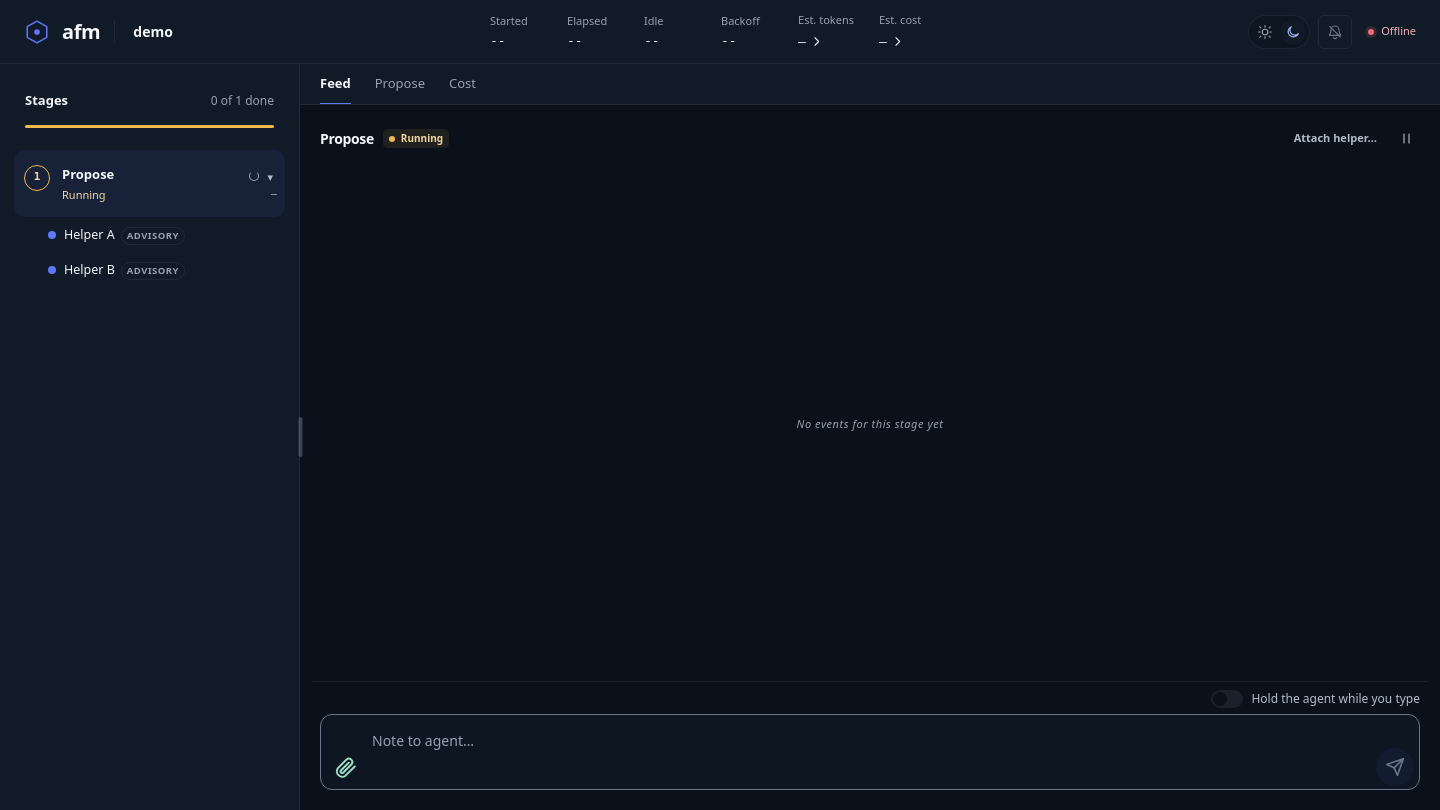
Test case: App helper activity › the selected helper view follows the socket state of the app
The image size is (1440, 810).
Click the button "Helper A Advisory" at coordinates (164, 235), box [42, 218, 285, 252]
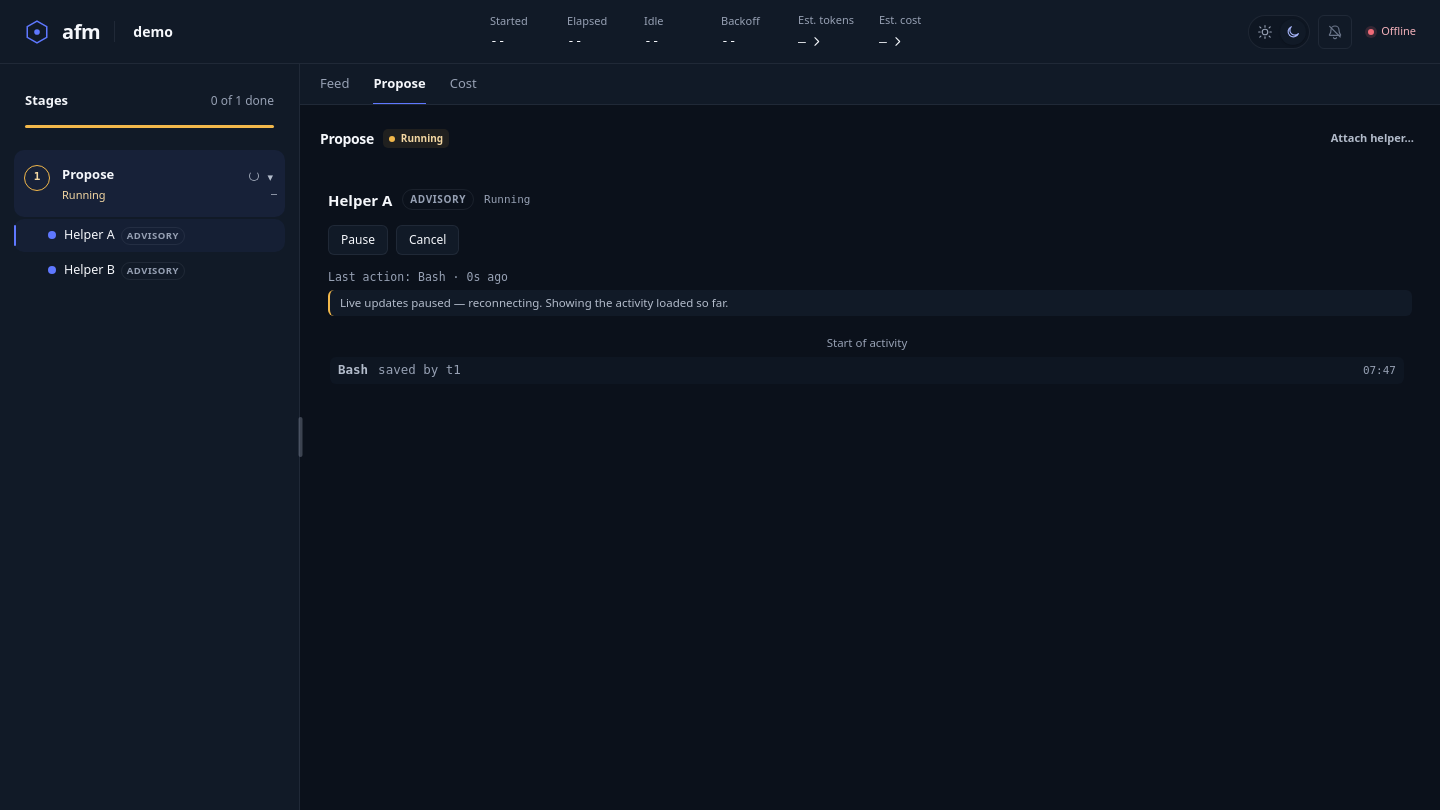
Expected: the text "Live updates paused — reconnecting. Showing the activity loaded so far." is shown, [328, 290, 1412, 316]
Expected: the text "saved by t1" is shown, [378, 362, 461, 377]
